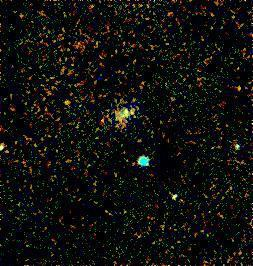star: (55, 87, 85, 117)
